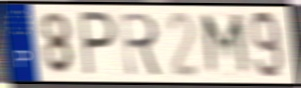2: (166, 10, 201, 79)
8: (39, 10, 77, 77)
9: (249, 8, 286, 83)
M: (199, 11, 254, 80)
P: (78, 9, 119, 79)
R: (119, 11, 166, 79)
